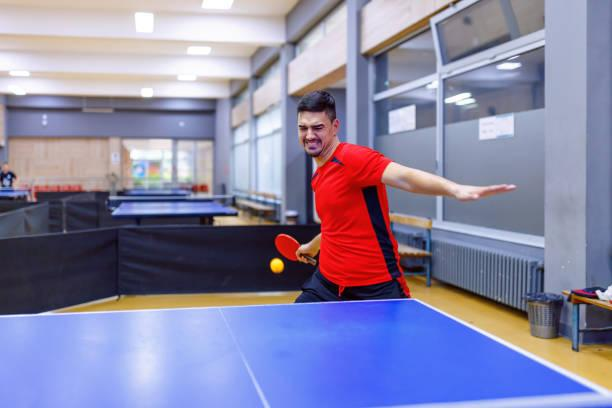ball_pingpong: (270, 257, 284, 275)
